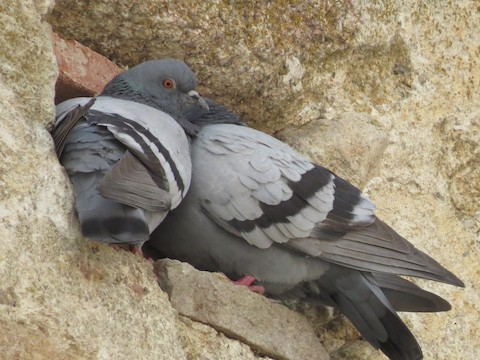pigeon: (97, 59, 464, 359)
